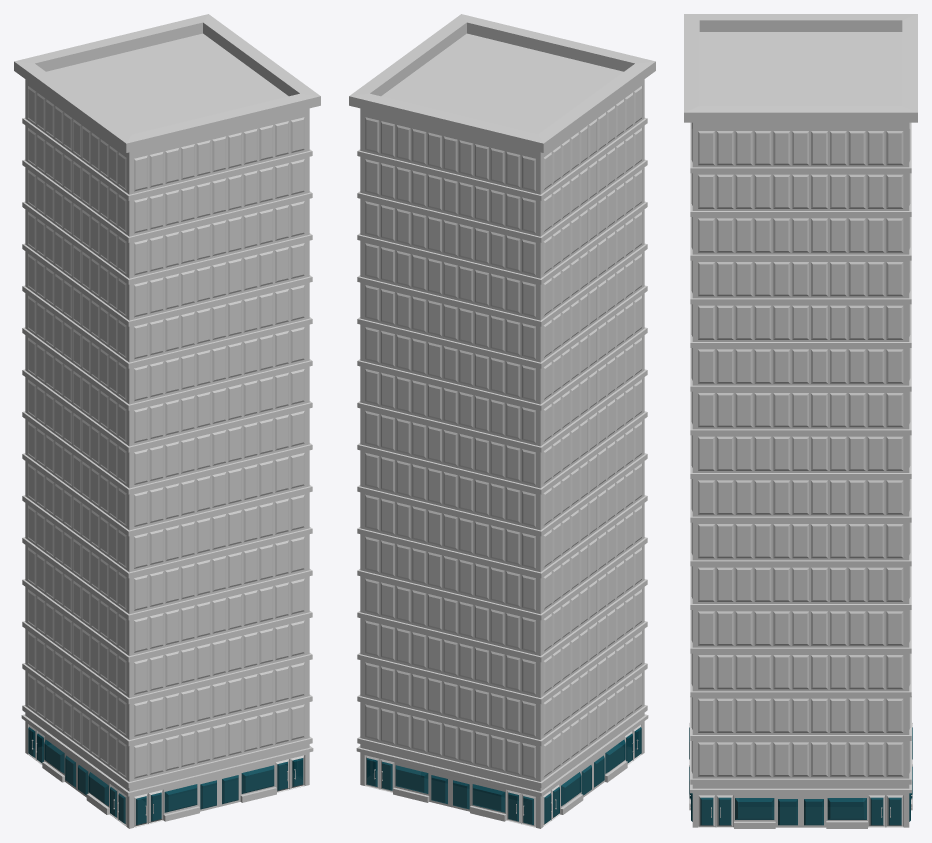
Rendered from building_office_four_sided_02_large.fbx.
3 renders of one model, left to right at view 1: azimuth 30°, elevation 25°; view 2: azimuth 150°, elevation 25°; view 3: azimuth 270°, elevation 25°, orthographic. The views are drawn at different scales.
Parts seen in each view (by area): view 1: building_office_four_sided_02_large, building_office_four_sided_02_base_glass.003; view 2: building_office_four_sided_02_large, building_office_four_sided_02_base_glass.003; view 3: building_office_four_sided_02_large, building_office_four_sided_02_base_glass.003.
Part boxes in pixels (x1,y1,x2,y2): building_office_four_sided_02_large: (14, 14, 320, 828); building_office_four_sided_02_base_glass.003: (28, 727, 303, 824); building_office_four_sided_02_large: (349, 14, 655, 828); building_office_four_sided_02_base_glass.003: (366, 727, 641, 824); building_office_four_sided_02_large: (684, 14, 917, 828); building_office_four_sided_02_base_glass.003: (689, 727, 912, 825).
Bounding box in the file's own units: 1941 × 6583 × 1941.
